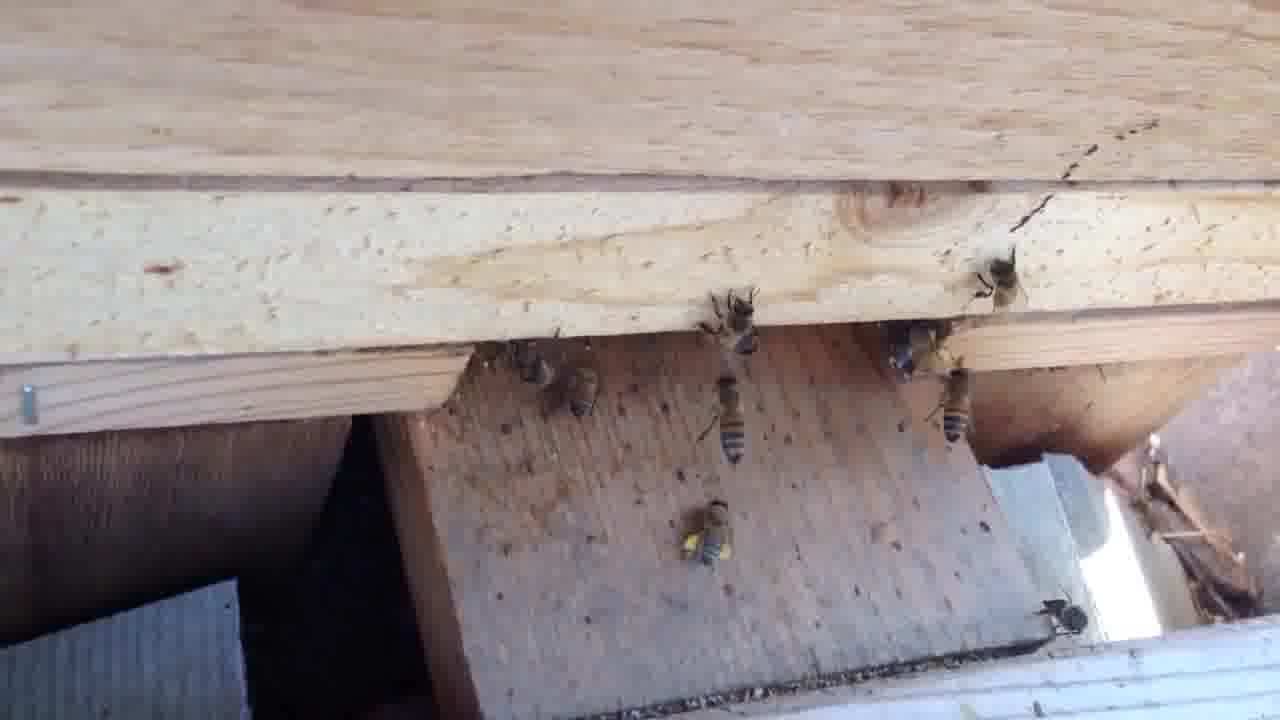pollen: (681, 492, 741, 569)
